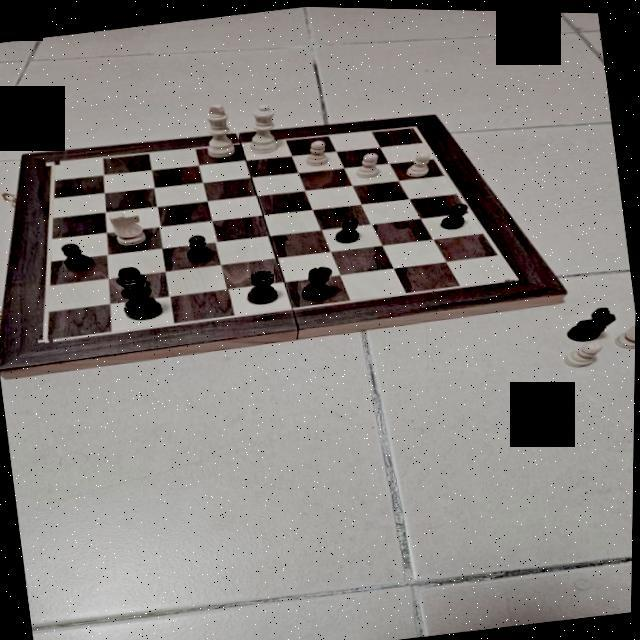chess-table-corners: (504, 272, 526, 282), (37, 334, 54, 346), (44, 157, 60, 165), (407, 121, 420, 129)
